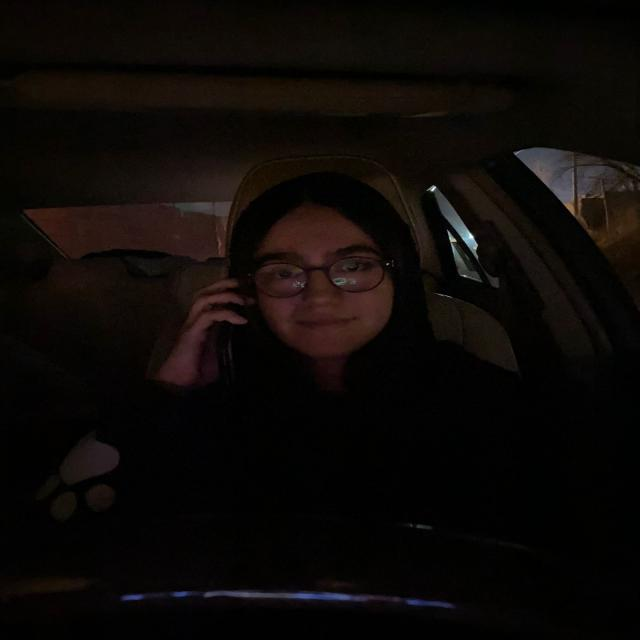mobile: (211, 324, 249, 388)
person: (231, 172, 414, 361)
